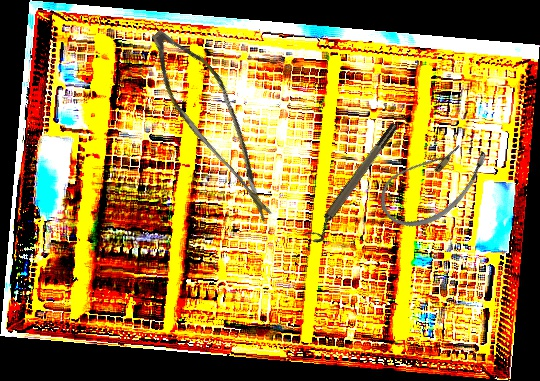Cannula: (370, 120, 498, 244)
Fixation Ring: (303, 120, 406, 247)
Micro Scissor: (121, 20, 314, 225)
